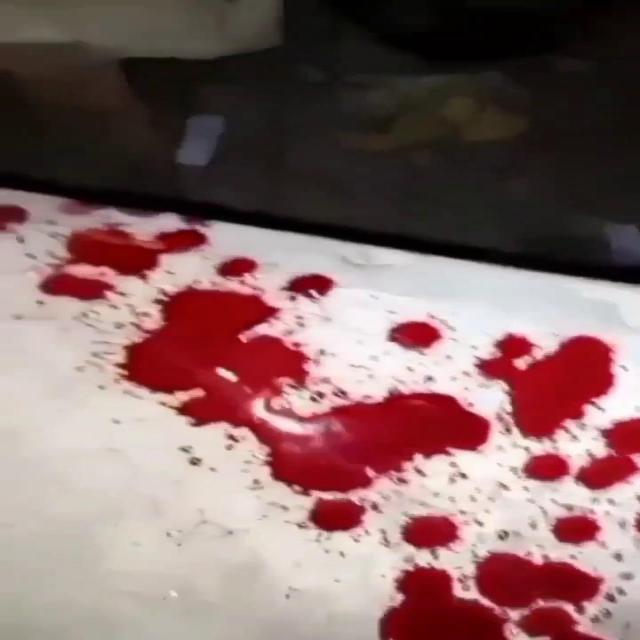knife: (116, 286, 313, 433), (254, 386, 488, 496), (470, 323, 624, 441), (369, 557, 509, 640), (472, 543, 612, 611), (63, 221, 212, 276), (392, 507, 470, 557), (537, 502, 612, 553), (517, 599, 601, 640), (305, 489, 371, 541), (569, 454, 640, 492), (387, 312, 446, 356), (36, 269, 113, 302), (520, 445, 572, 492), (280, 267, 341, 304), (597, 412, 640, 452), (215, 250, 261, 280), (0, 201, 34, 236)
